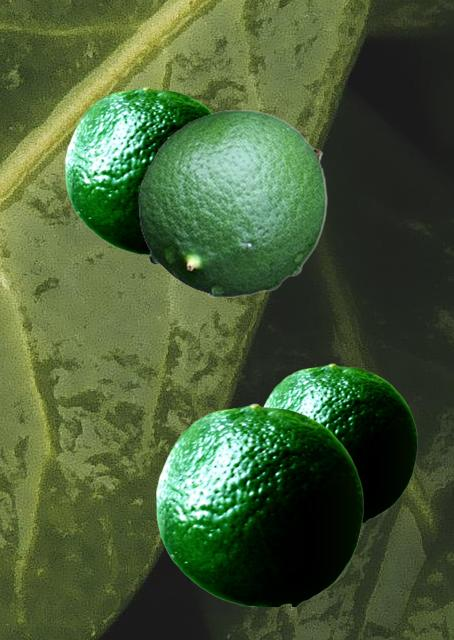calamansi: (156, 403, 362, 605), (138, 109, 326, 296), (65, 86, 212, 253), (263, 363, 416, 521)
